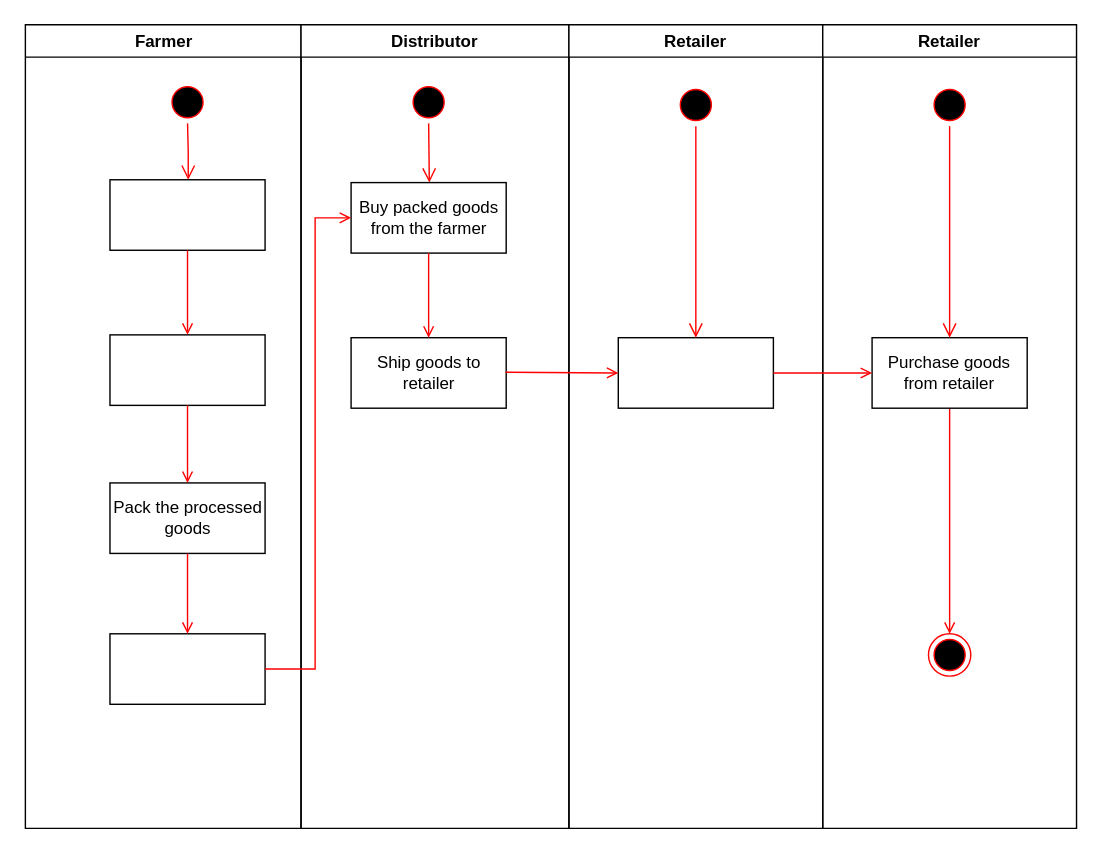
Image size: 1101x853. Some labels were removed from this diagram. Each missing label, with the box of its shape:
Harvest a product: (109, 178, 265, 250)
Process the harvest: (109, 333, 265, 405)
Put the packed goods up for sale: (109, 632, 265, 704)
Receive shipment from distributor: (617, 336, 773, 408)
